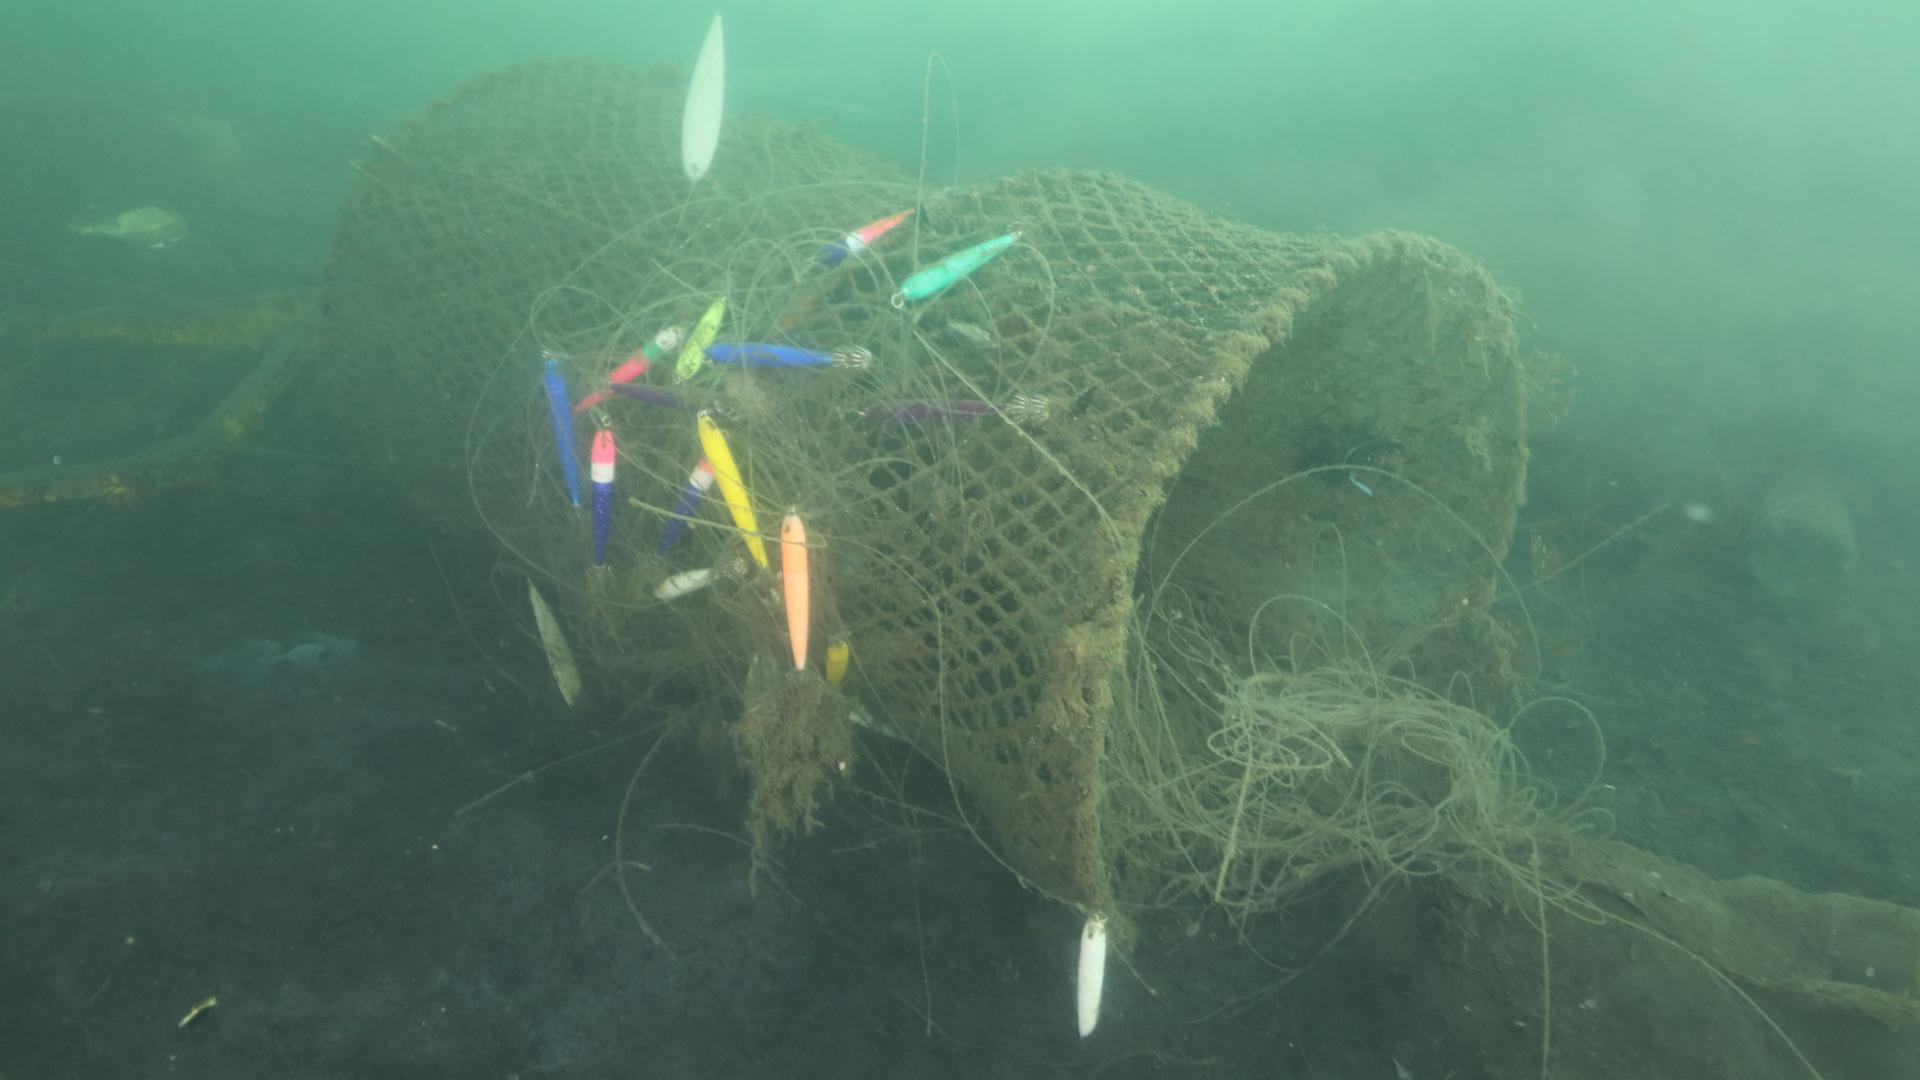spring fish trap: (315, 54, 1534, 956)
